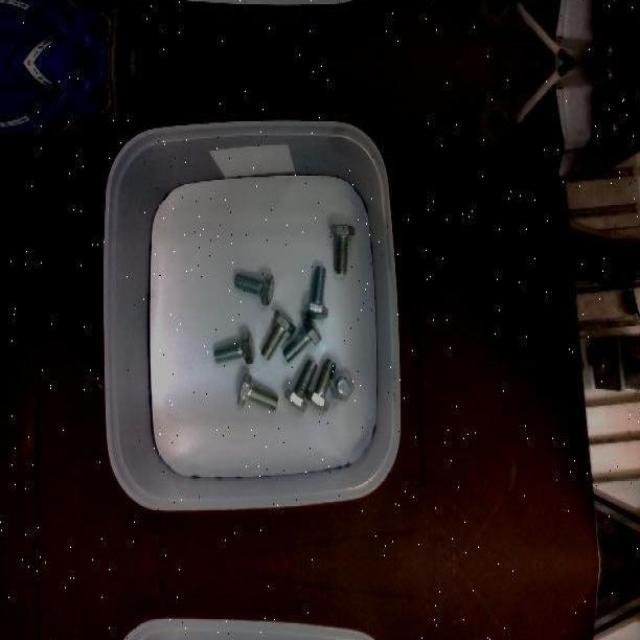screw: (261, 308, 296, 361), (284, 358, 318, 412), (284, 317, 323, 361), (306, 358, 336, 411), (213, 330, 255, 364), (238, 374, 278, 409), (304, 266, 330, 318), (234, 272, 274, 305), (332, 225, 356, 275), (330, 369, 354, 400)
